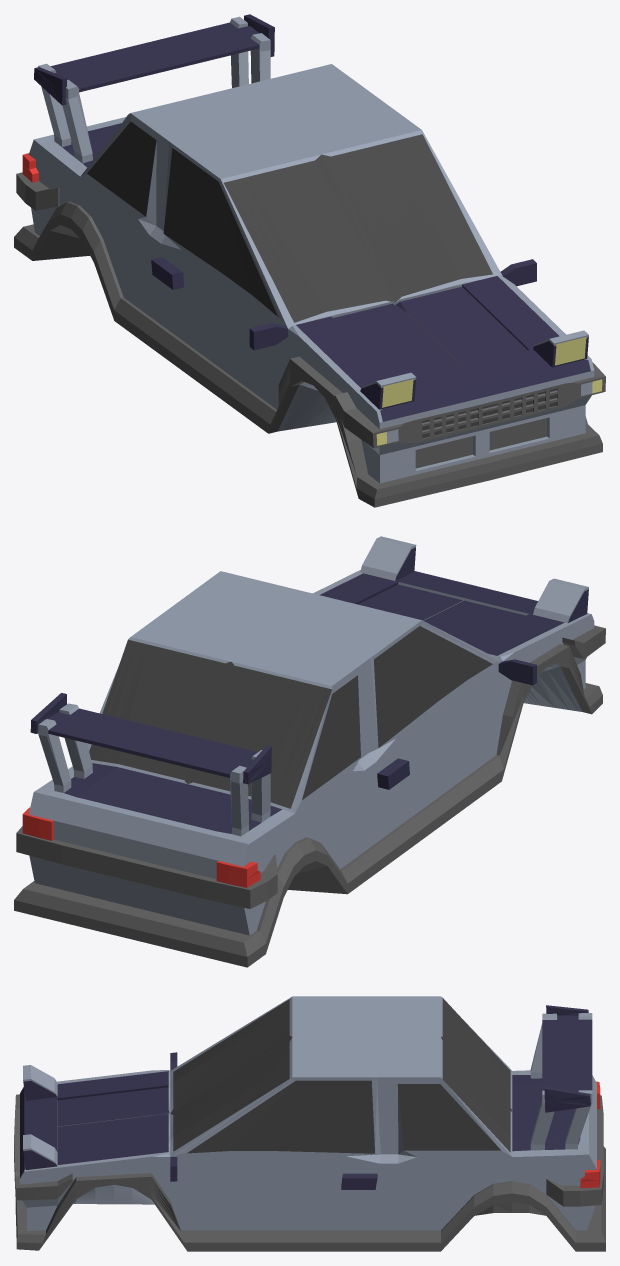
The model's file is SportCar.dae.
3 views of the same model, one above another, from view 1: azimuth 30°, elevation 25°; view 2: azimuth 150°, elevation 25°; view 3: azimuth 270°, elevation 25° (orthographic). The views are drawn at different scales.
Parts seen in each view (by area): view 1: Cube; view 2: Cube; view 3: Cube.
Part boxes in pixels (x1,y1,x2,y2): Cube: (14, 14, 605, 507); Cube: (14, 536, 605, 967); Cube: (14, 996, 605, 1251).
Bounding box in the file's own units: 5.22 × 11.5 × 3.6.
